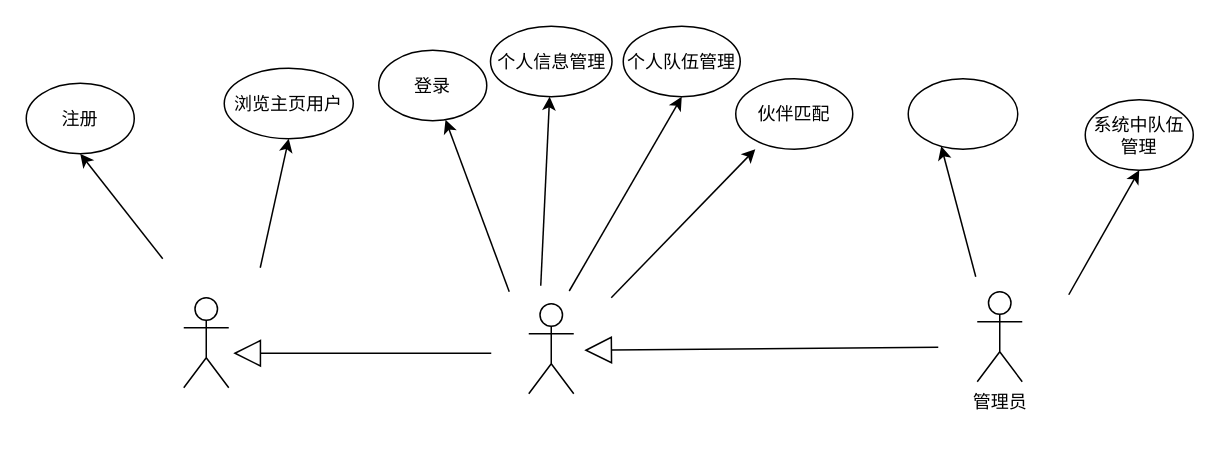
This 1220x452 diagram has some shape labels left out. The shapes that lost their labels are listed below. From the top down, each one's centre as x and y in pixels, then its label:
[962,113]: 系统中用户的信息管理
[205,342]: 游客
[550,348]: 用户
